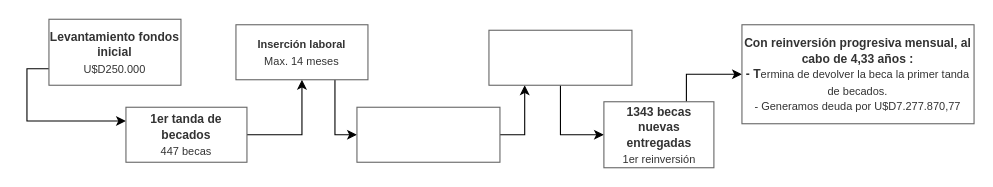
Some shapes in this 993 by 187 pixel diagram are drawn without their labels. The shapes that lost their labels are listed below. From the top down, each one's centre as x and y in pixels, then its label:
At point 560,57: "Reinversión directa del 60% de lo que devuelve. U$D2.400 x c/u.".
At point 428,134: "Devolución beca 19% de sus ingresos hasta completar U$D4.000".
